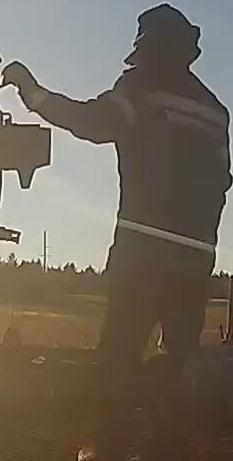gloves: (1, 56, 47, 114)
vest: (112, 69, 228, 263)
